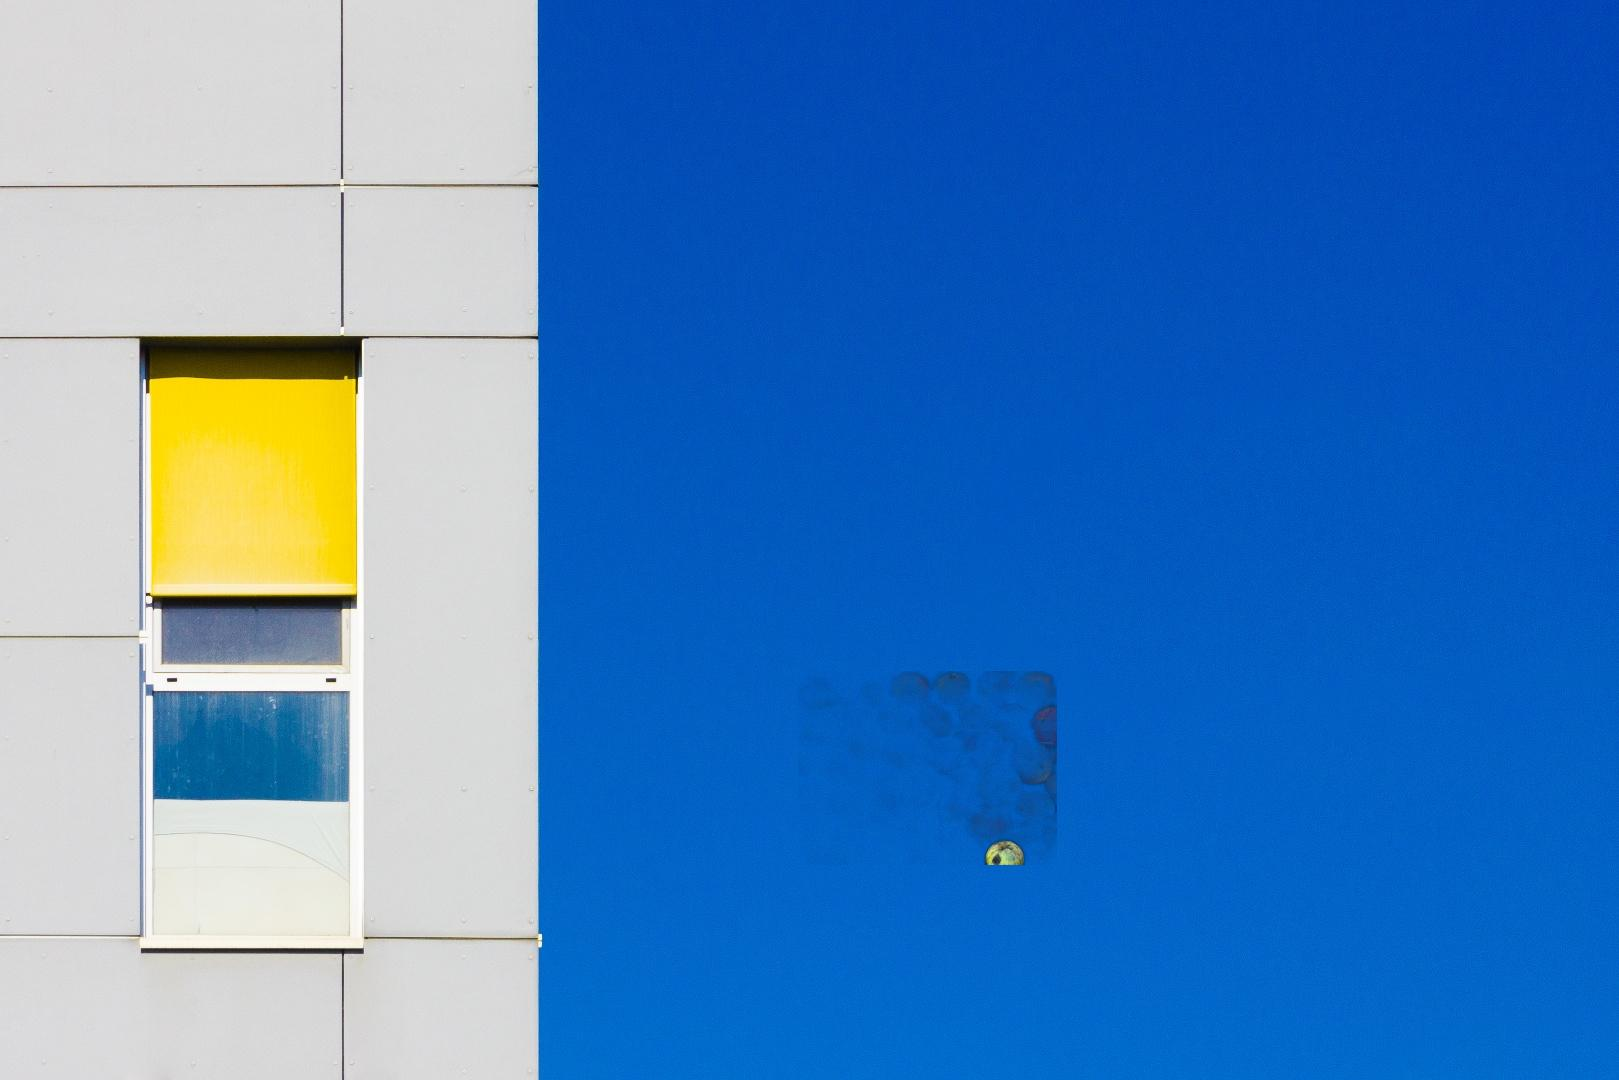biological: (798, 671, 1057, 865)
